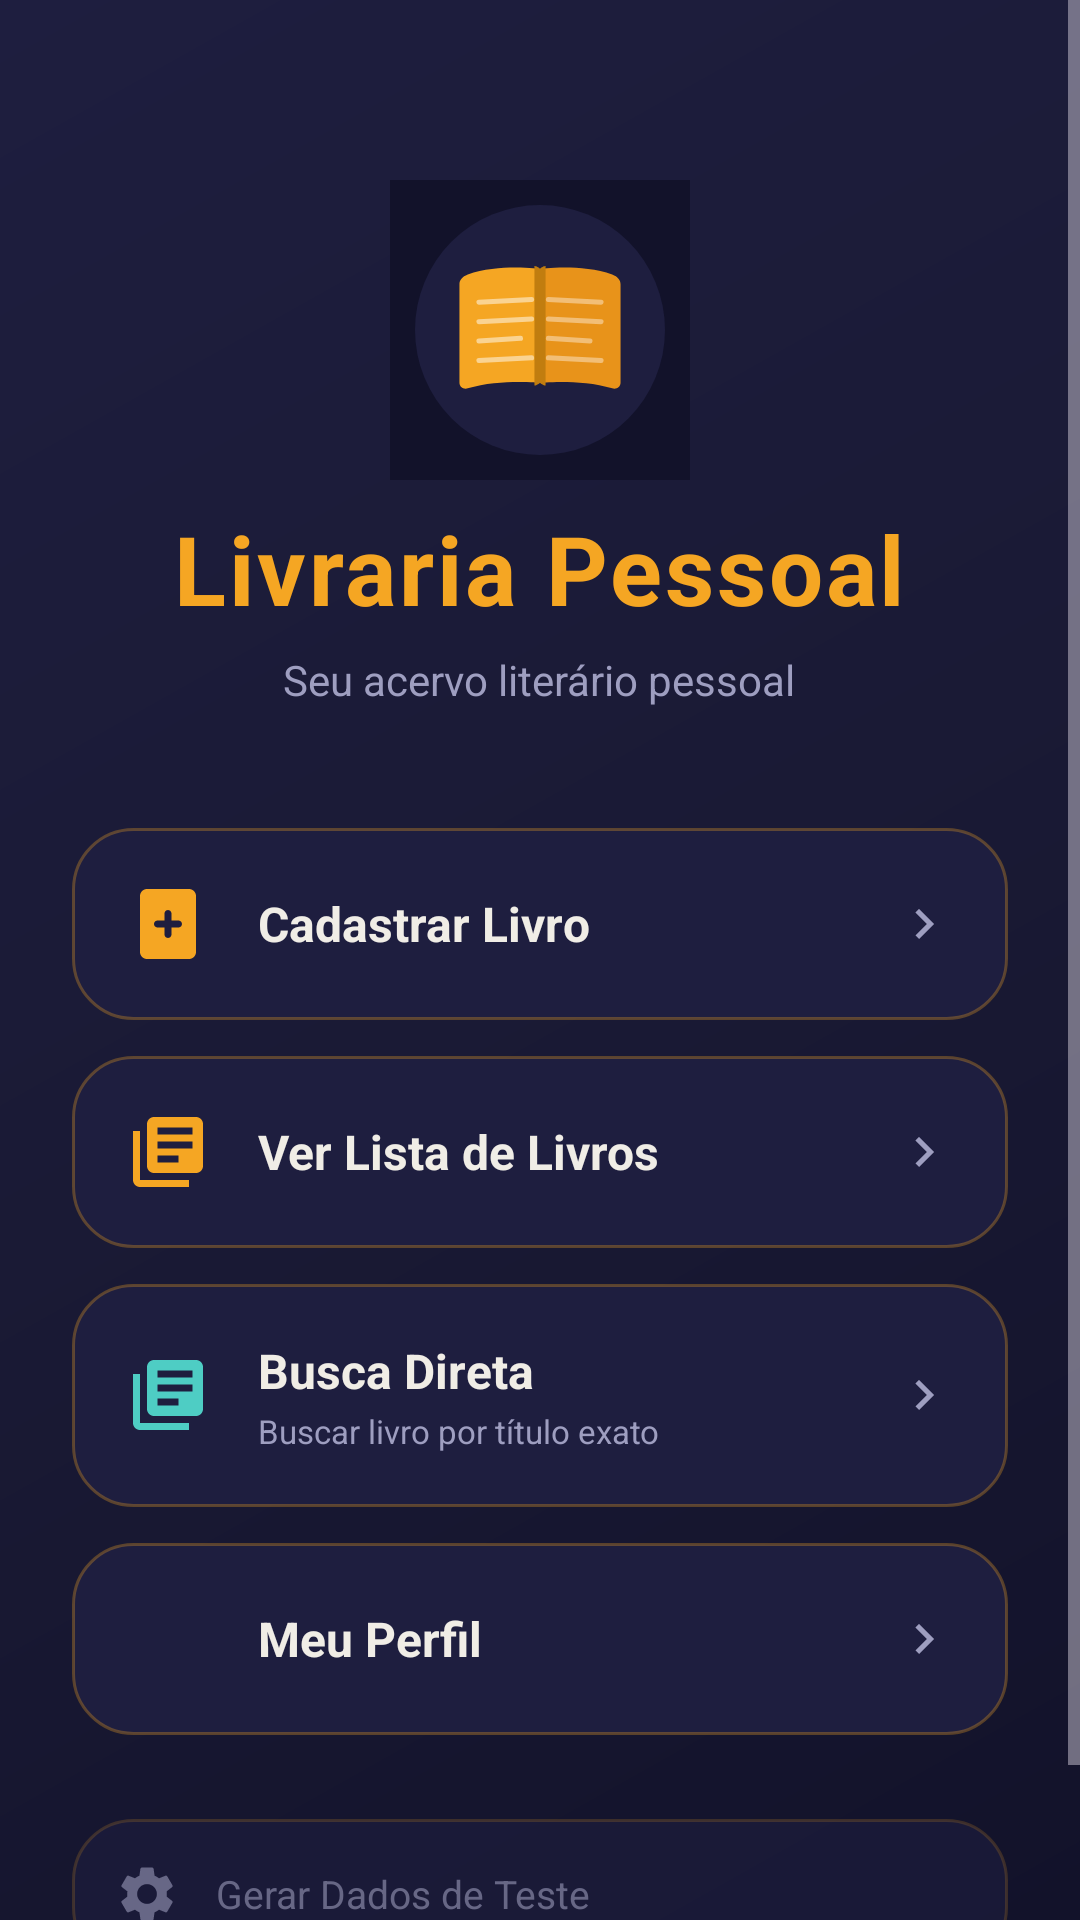

Icons on this 1080x1920 Android screen, each with the point to tap as [x,y]:
arrow right: [924,924], [924,1152], [924,1395], [924,1639]
Ver Biblioteca: [168,1152]
